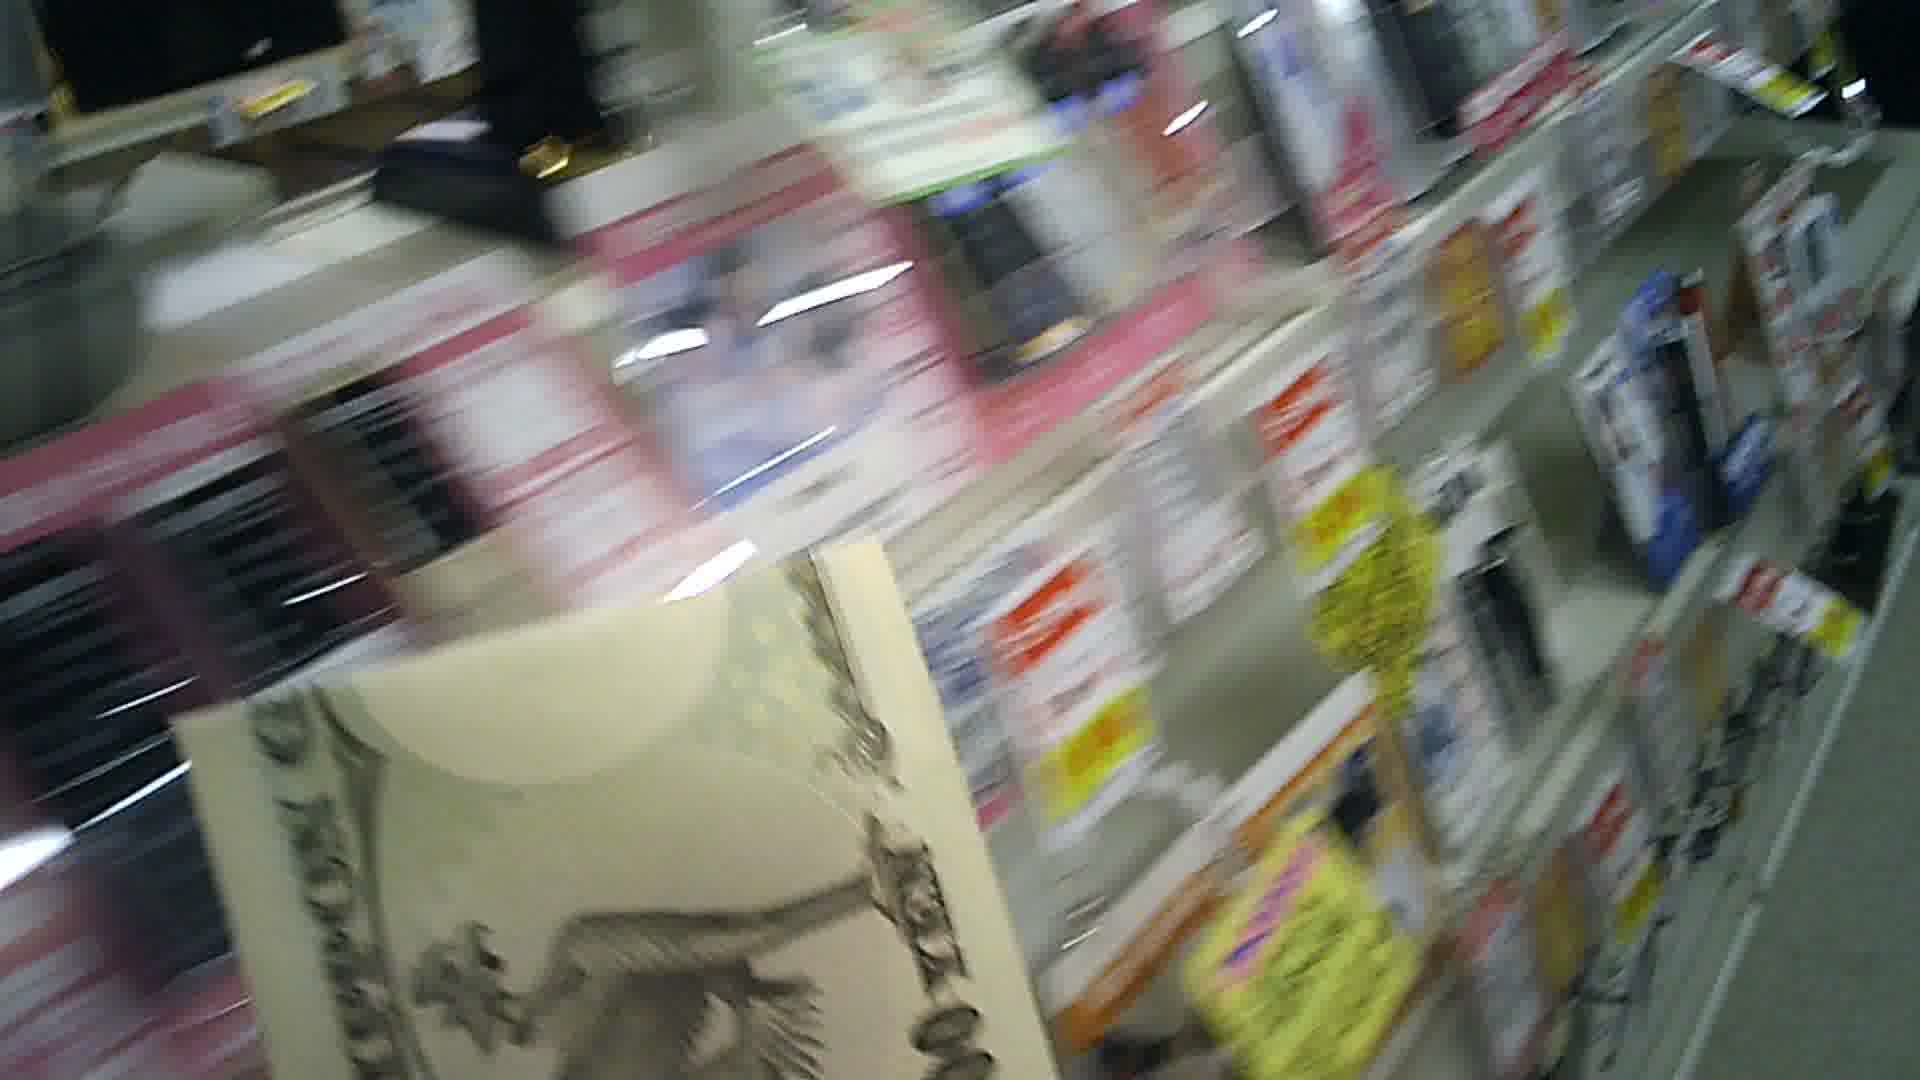10,000 Yen: (166, 570, 1052, 1079)
